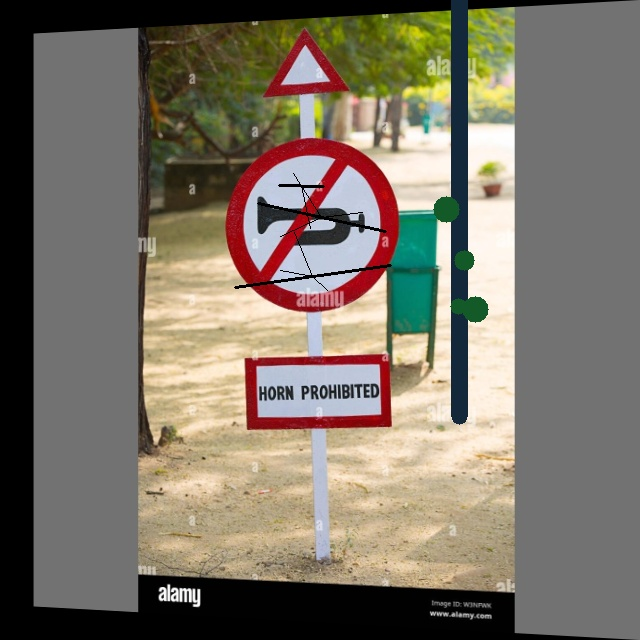Horn_Prohibited: (230, 137, 395, 314)
